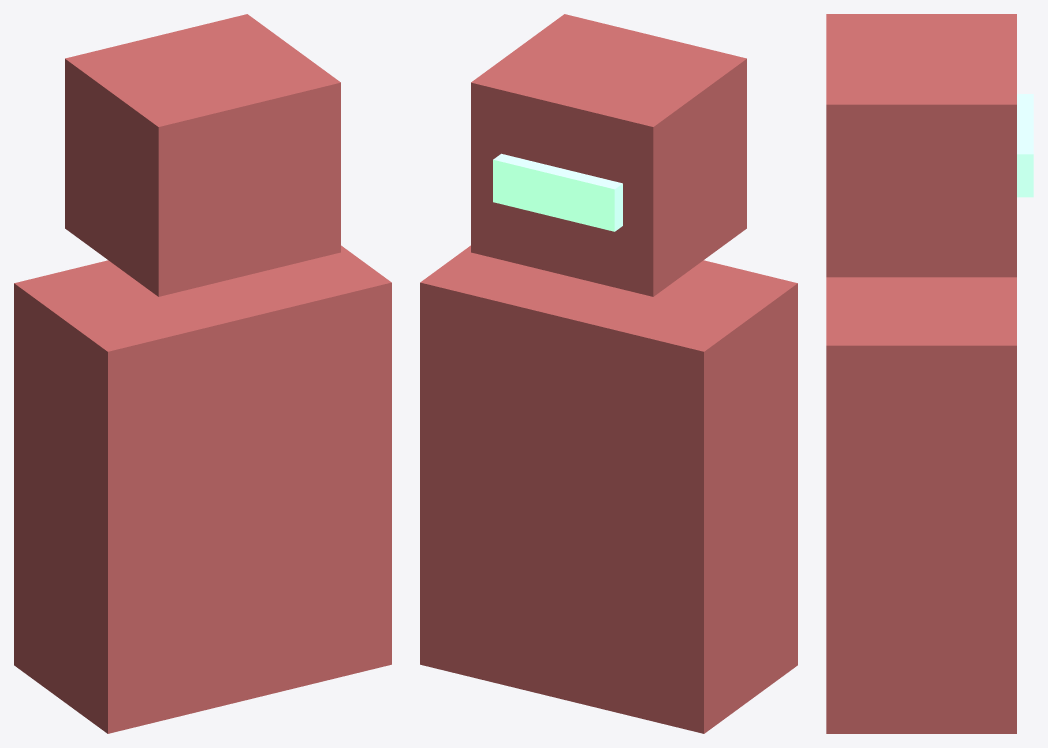
Rendered from target_drone.glb.
The picture shows the model from 3 angles, left to right: view 1: azimuth 30°, elevation 25°; view 2: azimuth 150°, elevation 25°; view 3: azimuth 270°, elevation 25°; orthographic projection.
Parts seen in each view (by area): view 1: Cube, Cube.001; view 2: Cube, Cube.001, Cube.002; view 3: Cube, Cube.001, Cube.002.
Boxes of the visible parts, x1,y1,x2,y2 form: Cube: [14, 245, 391, 733]; Cube.001: [65, 14, 340, 296]; Cube: [420, 245, 797, 733]; Cube.001: [471, 14, 746, 296]; Cube.002: [493, 153, 622, 231]; Cube: [826, 277, 1016, 733]; Cube.001: [826, 14, 1016, 277]; Cube.002: [1017, 94, 1033, 197].
Bounding box in the file's own units: 0.7 × 1.4 × 0.435.
